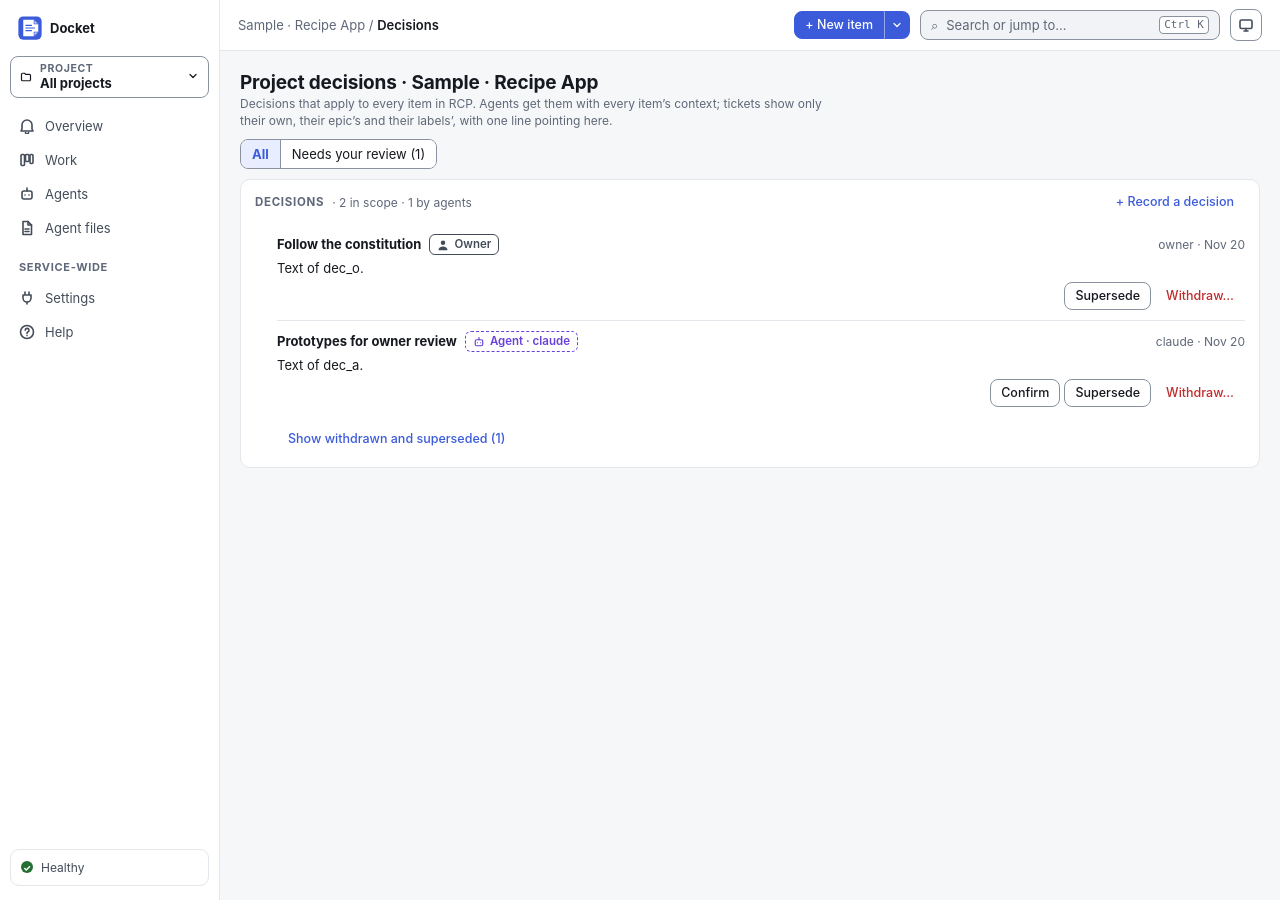
Scenario: the project Decisions page › lists every project decision; Needs your review shows agents’ unconfirmed ones
The width and height of the screenshot is (1280, 900).
expect the heading "Project decisions · Sample · Recipe App" is shown: met, box [240, 69, 598, 96]
expect the element named "Decisions" is shown: met, box [240, 179, 1260, 468]
Click the button "Needs your review (1)" at [358, 154], box [281, 140, 436, 168]
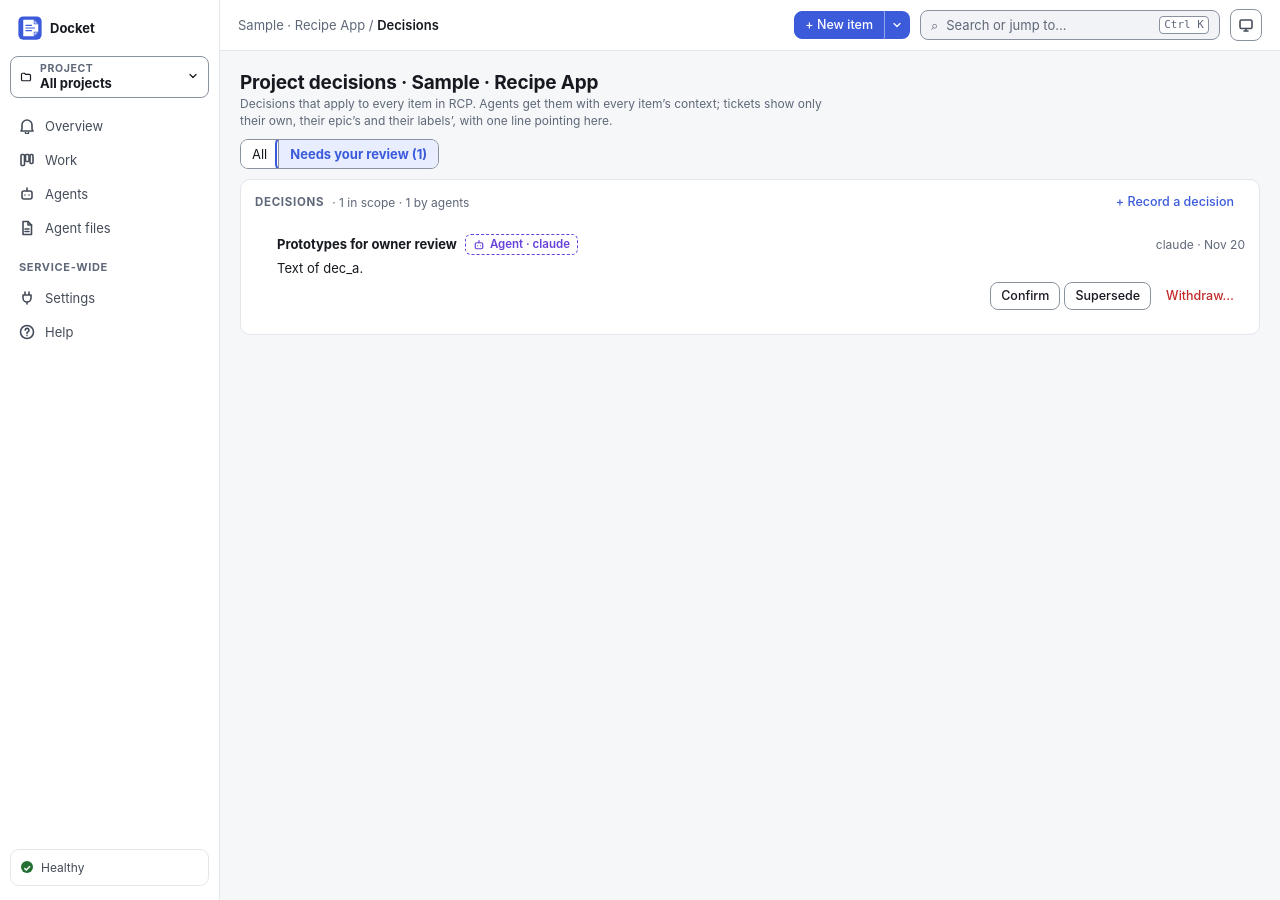
expect the button "Show withdrawn" is gone: met
// + Record a decision is scoped to the project.
Click the button "+ Record a decision" at [1175, 202], box [1105, 188, 1245, 216]
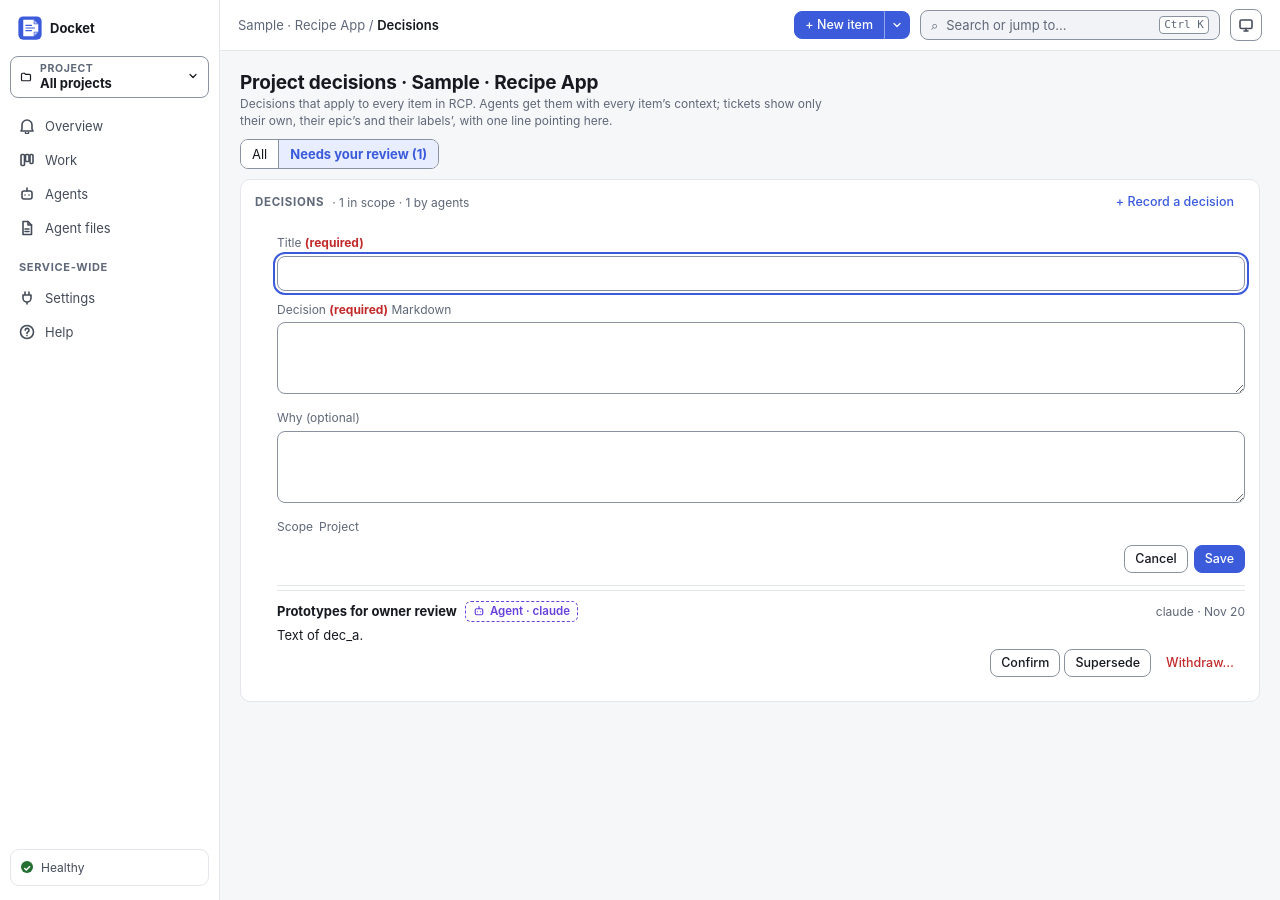
expect the text "Project" below "Why" is shown: met, box [319, 519, 359, 534]
